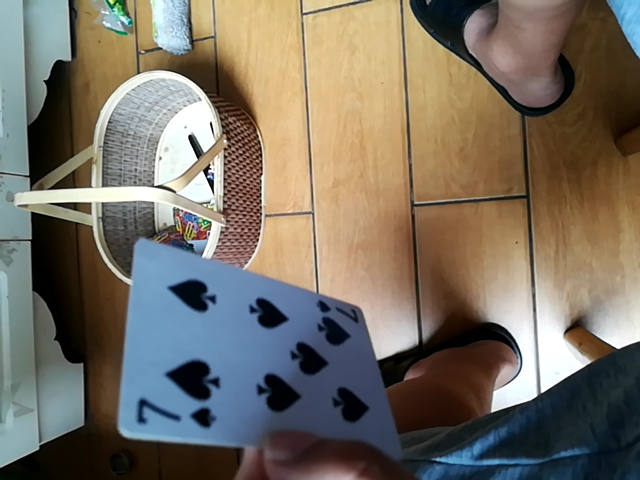ht 7: (119, 234, 399, 461)
